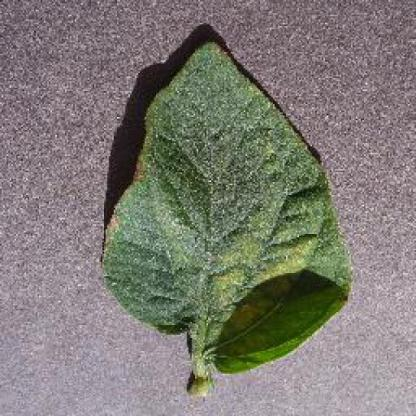Strawberry_Blossom_Blight: (178, 68, 238, 120), (152, 205, 202, 250), (168, 268, 214, 316), (247, 149, 302, 185), (182, 156, 224, 200), (278, 196, 316, 240)
